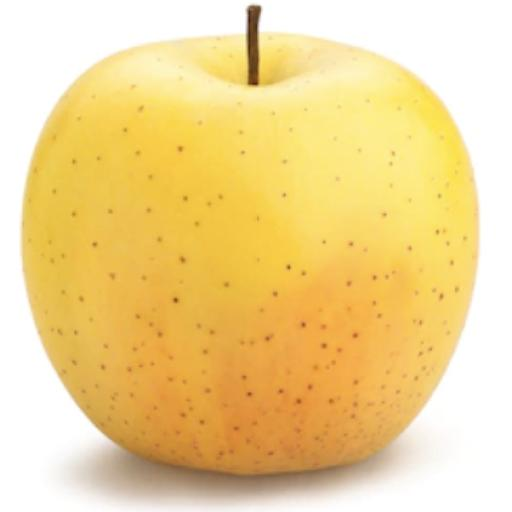apple: (24, 34, 478, 473)
